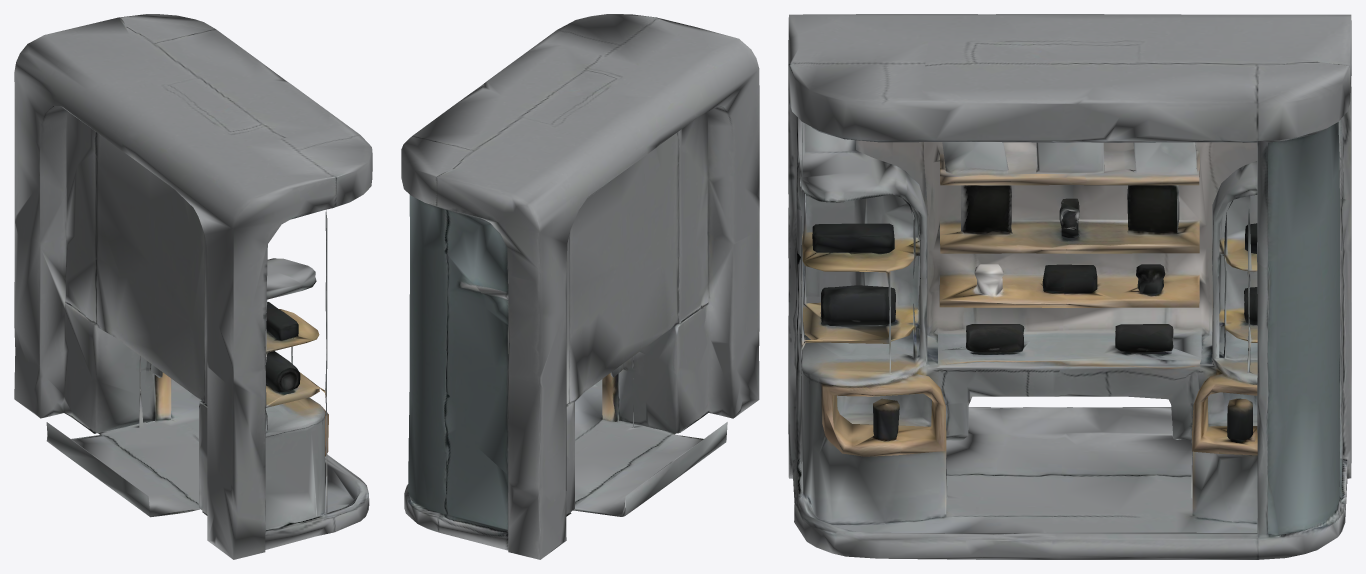
File: frontclw_lod1.glb
3 renders of one model, left to right at view 1: azimuth 30°, elevation 25°; view 2: azimuth 150°, elevation 25°; view 3: azimuth 270°, elevation 25°, orthographic. The views are drawn at different scales.
Parts seen in each view (by area): view 1: tripo_node_e9c7b41d-e00e-47ac-931f-928e804d7f1a; view 2: tripo_node_e9c7b41d-e00e-47ac-931f-928e804d7f1a; view 3: tripo_node_e9c7b41d-e00e-47ac-931f-928e804d7f1a.
Part boxes in pixels (x1=…): tripo_node_e9c7b41d-e00e-47ac-931f-928e804d7f1a: x1=14, y1=14, x2=372, y2=559; tripo_node_e9c7b41d-e00e-47ac-931f-928e804d7f1a: x1=401, y1=14, x2=759, y2=559; tripo_node_e9c7b41d-e00e-47ac-931f-928e804d7f1a: x1=788, y1=14, x2=1351, y2=559.
Bounding box in the file's own units: 1.01 × 1.8 × 2.
1 material, 1 textured.
